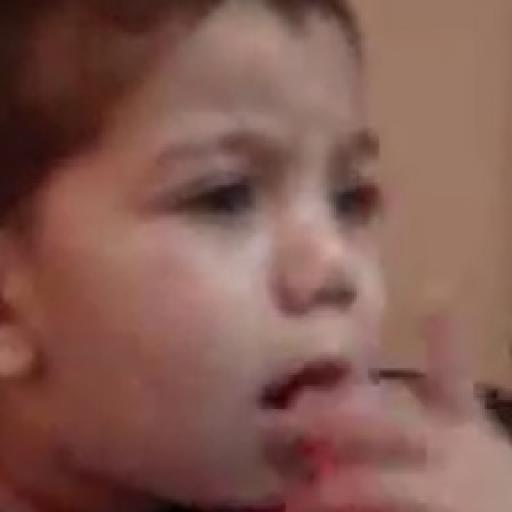Autism: (0, 32, 425, 512)
